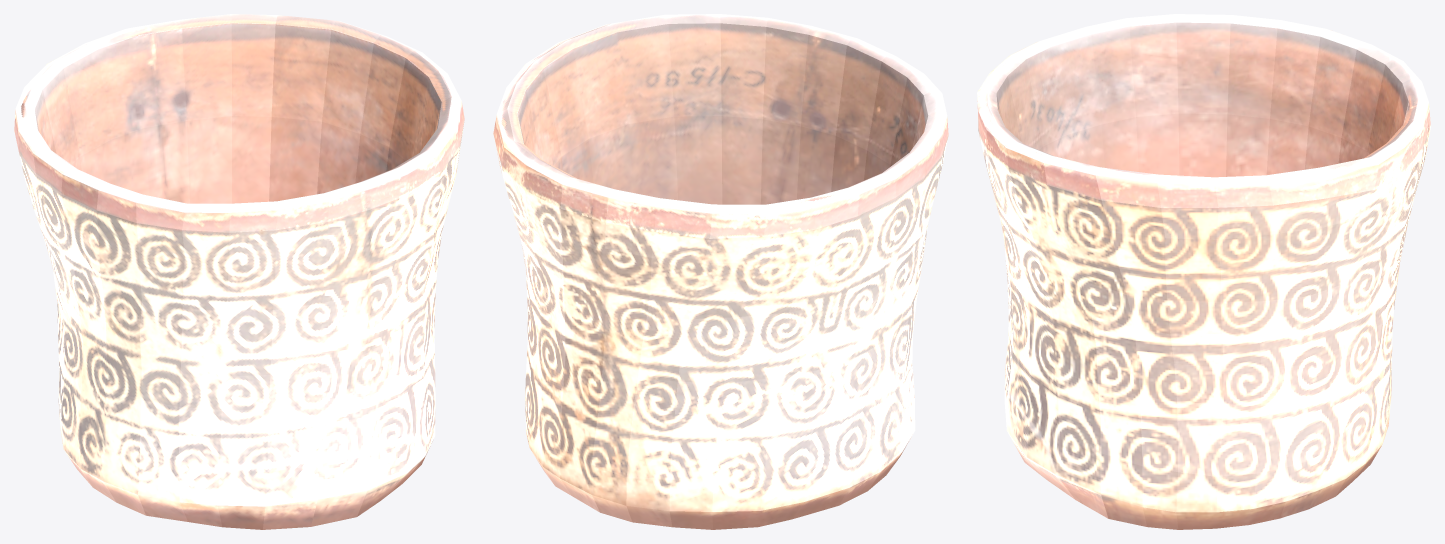
The model's file is objeto_08_nasca.glb.
The picture shows the model from 3 angles, left to right: view 1: azimuth 30°, elevation 25°; view 2: azimuth 150°, elevation 25°; view 3: azimuth 270°, elevation 25°; orthographic projection.
Visible parts, largest first — view 1: Box001; view 2: Box001; view 3: Box001.
Part boxes in pixels (x1=…): Box001: x1=14, y1=14, x2=464, y2=529; Box001: x1=493, y1=14, x2=948, y2=529; Box001: x1=977, y1=14, x2=1430, y2=529.
Size of the model in its own units: 72.11 by 65.81 by 74.23.
